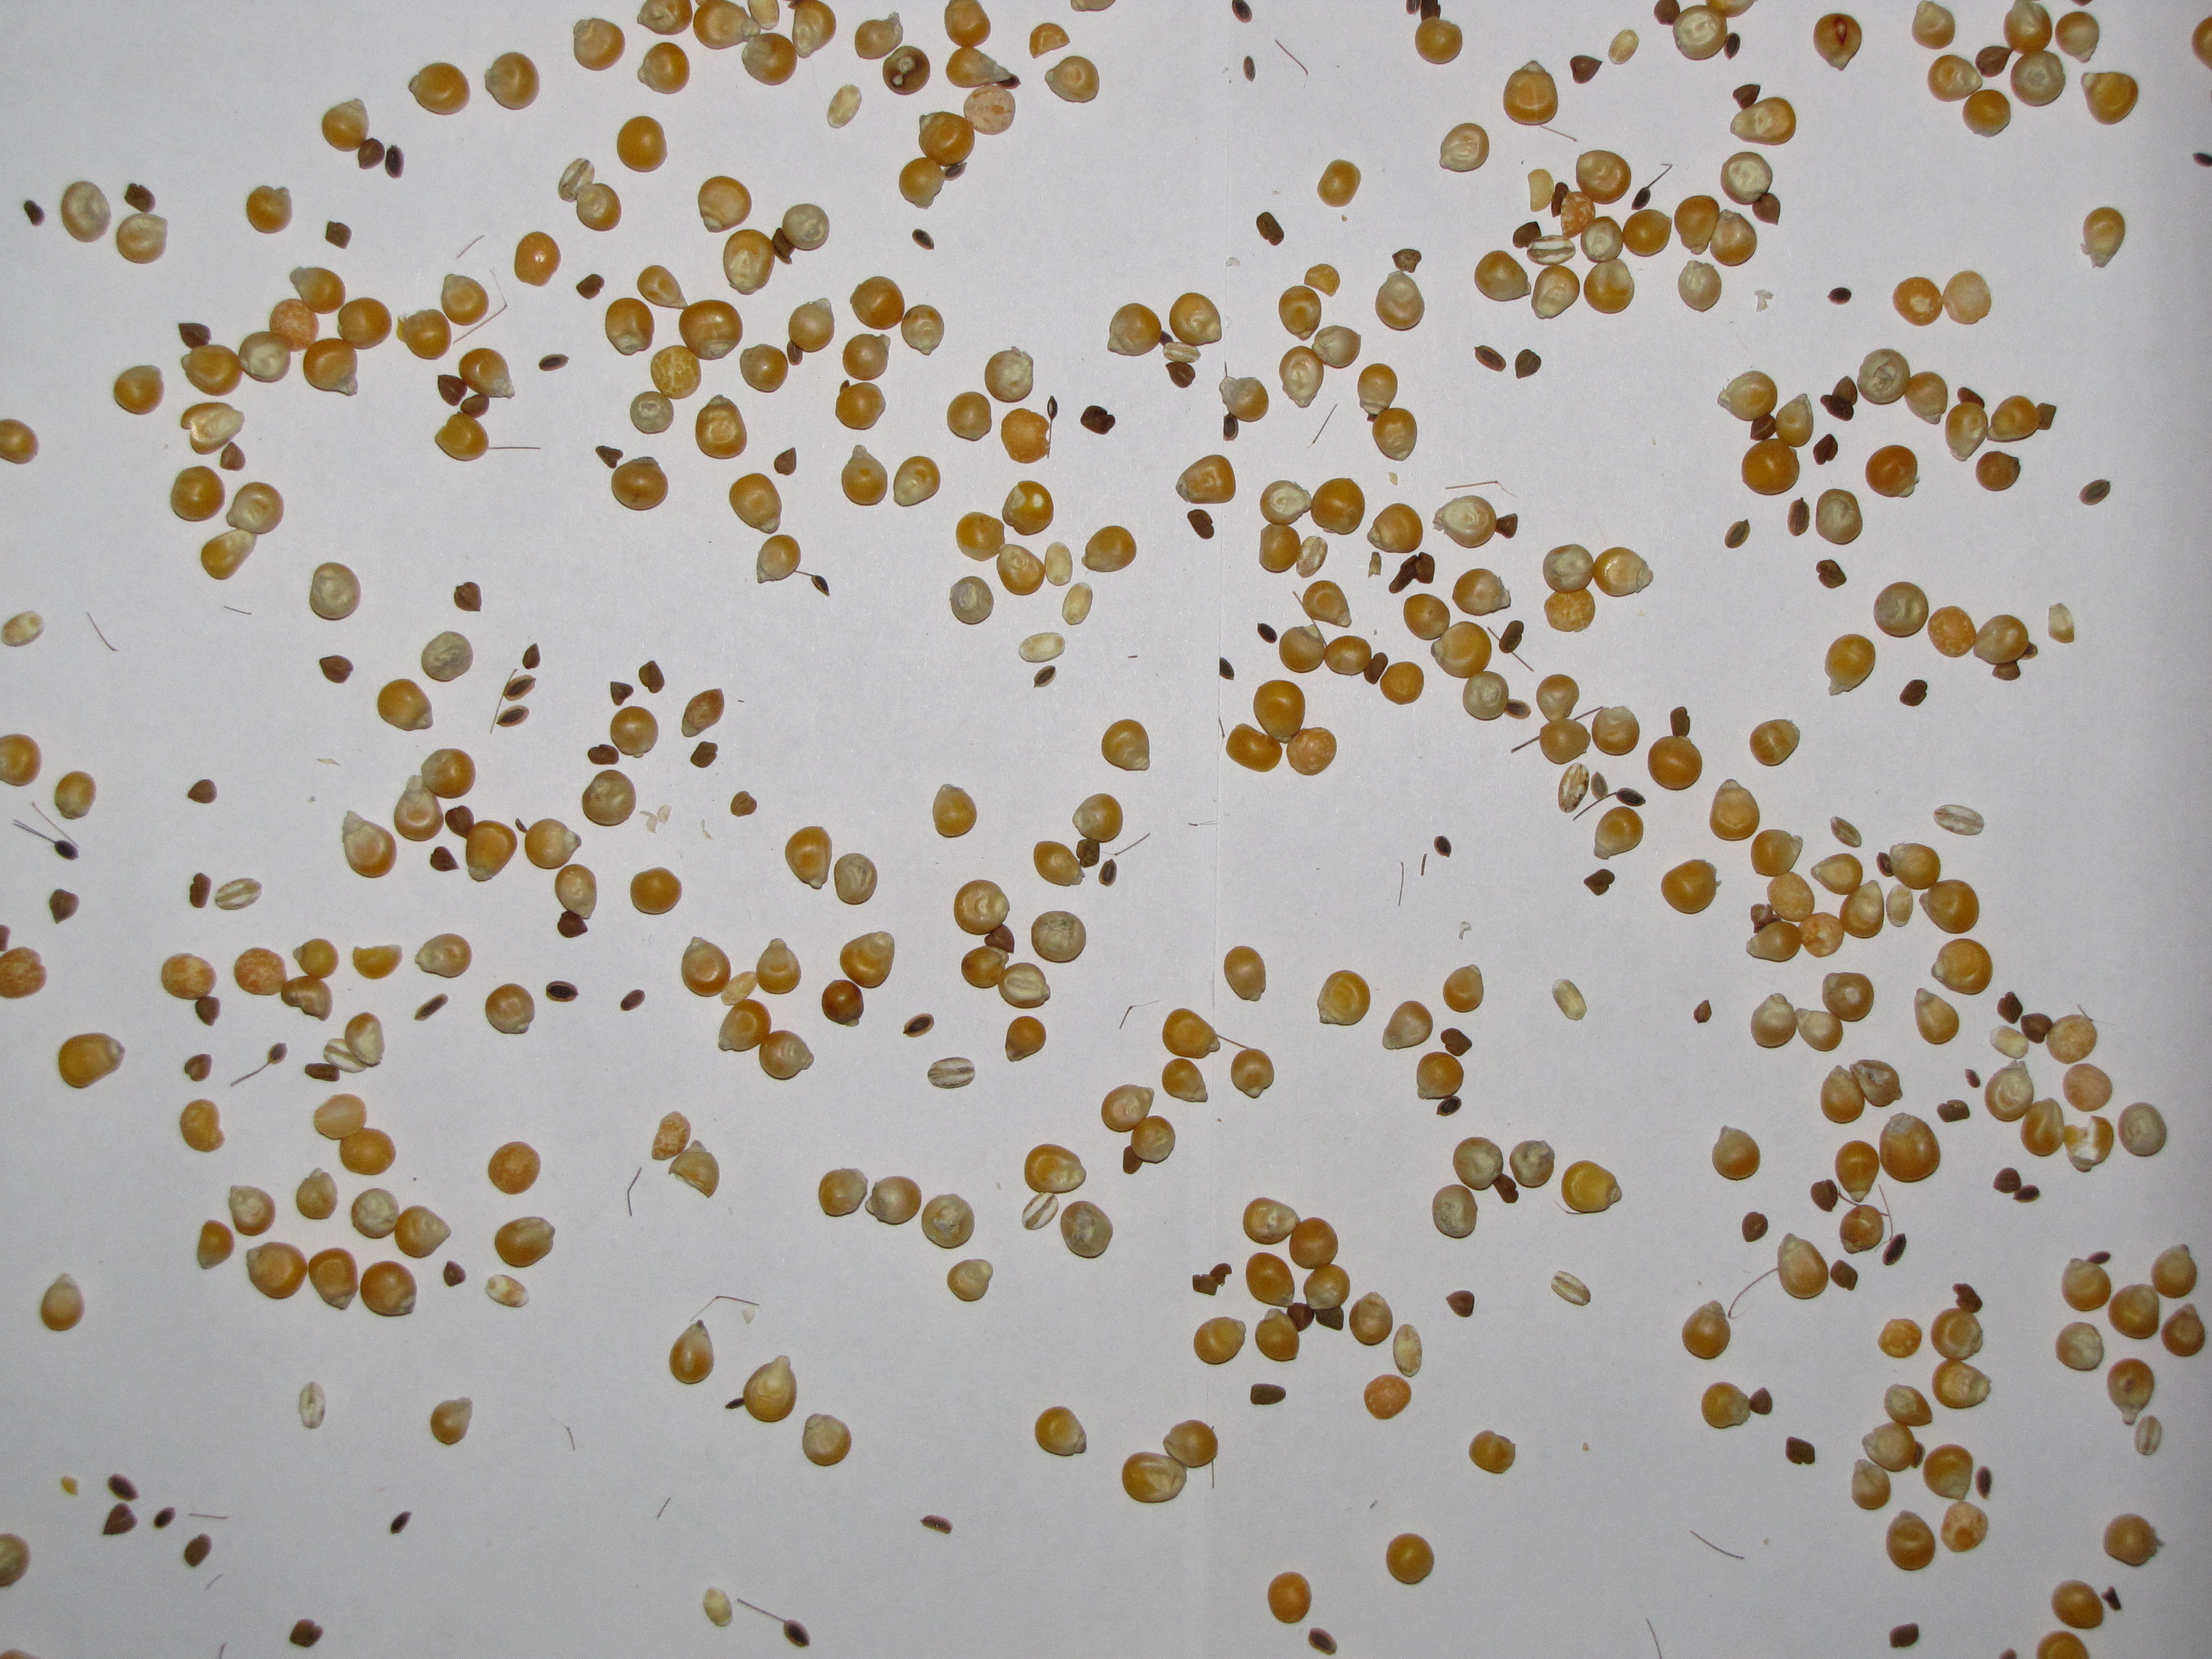mais: (756, 535, 831, 596), (1573, 772, 1646, 821), (516, 817, 582, 870), (1416, 1051, 1465, 1117), (378, 678, 434, 732), (1474, 249, 1531, 301), (669, 1319, 714, 1385), (1451, 568, 1512, 617), (841, 444, 888, 507), (1169, 293, 1223, 347), (1367, 502, 1423, 554), (1001, 481, 1054, 537), (1813, 12, 1862, 71), (1834, 1140, 1879, 1202), (488, 1141, 542, 1194), (573, 17, 625, 71), (984, 347, 1035, 403), (864, 1176, 921, 1225), (637, 42, 690, 94), (1594, 805, 1644, 859), (801, 1413, 852, 1467), (2118, 1101, 2167, 1157), (1043, 56, 1101, 103), (1815, 488, 1862, 545), (1381, 1000, 1433, 1051), (1385, 1534, 1435, 1586), (834, 380, 887, 430), (421, 631, 474, 681), (1035, 1406, 1087, 1457), (1193, 1316, 1247, 1364), (1101, 718, 1150, 772), (1082, 525, 1137, 572), (514, 232, 561, 288), (1914, 988, 1959, 1046), (415, 934, 472, 979), (819, 1168, 869, 1218), (1439, 122, 1489, 173), (441, 274, 489, 326), (610, 706, 658, 758), (631, 866, 683, 915), (486, 983, 535, 1035), (738, 343, 789, 392), (2062, 1063, 2113, 1112), (1749, 720, 1801, 767), (894, 455, 941, 507), (2055, 10, 2101, 64), (1348, 1291, 1393, 1345), (932, 784, 977, 838), (1432, 1185, 1477, 1239), (1278, 286, 1322, 342), (1224, 945, 1266, 1002), (883, 45, 930, 96), (228, 1185, 275, 1236), (1677, 260, 1723, 312), (855, 12, 904, 59), (946, 392, 993, 441), (843, 333, 890, 382), (1268, 1572, 1312, 1624), (834, 852, 878, 904), (1364, 1373, 1411, 1420), (1317, 159, 1362, 207), (949, 577, 995, 626), (1510, 1140, 1555, 1188), (296, 1168, 338, 1220), (1468, 1429, 1515, 1474), (1162, 1058, 1209, 1103), (681, 688, 725, 737), (946, 1258, 993, 1302), (820, 979, 864, 1026), (1442, 964, 1484, 1012), (1379, 662, 1425, 706), (1630, 164, 1672, 211), (1388, 552, 1435, 594), (1005, 1016, 1047, 1063), (1975, 451, 2020, 491), (1820, 376, 1858, 422), (1393, 1324, 1423, 1378), (827, 84, 862, 129), (1029, 23, 1069, 59), (1062, 582, 1094, 626), (1191, 1263, 1231, 1297), (1303, 263, 1341, 296), (1487, 620, 1524, 653), (1275, 40, 1308, 75), (1608, 30, 1639, 64), (1080, 404, 1116, 434), (2020, 1012, 2054, 1044), (1831, 816, 1862, 847), (1256, 211, 1284, 246), (319, 655, 354, 683), (1829, 1260, 1858, 1291), (183, 1534, 211, 1567), (1569, 56, 1602, 84), (1787, 497, 1810, 537), (1817, 559, 1846, 589), (453, 582, 482, 612), (1186, 509, 1214, 540), (1440, 1028, 1472, 1056), (1474, 345, 1507, 371), (1996, 992, 2022, 1025), (2078, 479, 2111, 505), (639, 660, 665, 694), (1446, 1290, 1475, 1317), (1785, 1436, 1815, 1464), (1583, 870, 1615, 896), (1742, 1211, 1768, 1243), (690, 741, 718, 769), (430, 845, 460, 871), (1724, 519, 1750, 549), (219, 441, 246, 471), (1898, 680, 1928, 706), (1515, 349, 1541, 378), (1890, 1622, 1919, 1649), (627, 1168, 643, 1216), (1813, 434, 1838, 465), (577, 274, 604, 300), (730, 791, 758, 817), (185, 1054, 211, 1082), (190, 873, 211, 908), (1251, 1384, 1285, 1405), (188, 779, 218, 803), (545, 981, 578, 1002), (587, 744, 618, 765), (442, 1260, 467, 1286), (385, 145, 404, 178), (596, 446, 624, 469), (773, 448, 796, 476), (610, 681, 634, 706), (1975, 1466, 1993, 1499), (538, 354, 570, 371), (620, 990, 644, 1011), (1099, 859, 1116, 887), (1446, 481, 1498, 490), (523, 643, 540, 669), (1512, 652, 1533, 673), (913, 228, 934, 249), (1693, 1000, 1712, 1023), (1827, 288, 1851, 305), (1258, 624, 1278, 643), (1433, 835, 1451, 857), (1367, 551, 1381, 577), (1219, 657, 1235, 680), (1244, 56, 1256, 82), (1965, 1068, 1980, 1087), (1120, 1006, 1132, 1028), (225, 606, 251, 615), (507, 669, 517, 681), (1561, 134, 1576, 141), (1421, 854, 1426, 875), (1049, 403, 1052, 413), (1129, 655, 1137, 659)
